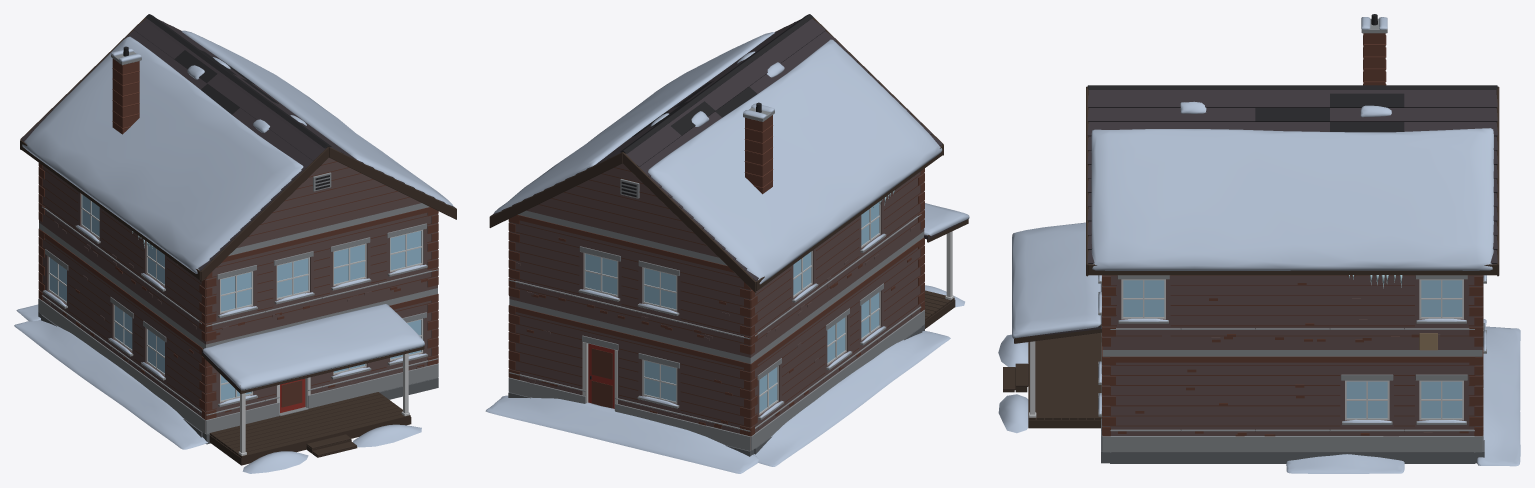
File: house_two_story_A.glb
3 renders of one model, left to right at view 1: azimuth 30°, elevation 25°; view 2: azimuth 150°, elevation 25°; view 3: azimuth 270°, elevation 25°, orthographic. The views are drawn at different scales.
Visible parts, largest first — view 1: Roof, Floor0, Walls1_S, Walls0_W, Walls1_W, Walls0_S, Walls1_S_Stub, Walls0_S_Stub, Walls1_W_Stub, Floor1, Window_10, Window_12 (+10 smaller); view 2: Roof, Walls1_N, Walls0_N, Floor0, Walls0_W, Walls1_W, Floor1, Walls0_N_Stub, Walls1_N_Stub, Walls1_W_Stub, Door_1, Window_3 (+8 smaller); view 3: Roof, Walls0_E, Walls1_E, Floor0, Walls1_E_Stub, Floor1, Walls0_E_Stub, Window_15, Window_16, Window_5, Window_4, Walls0_S (+3 smaller).
Boxes of the visible parts, x1,y1,x2,y2 form: Roof: (20,14,456,393); Floor0: (14,304,438,473); Walls1_S: (199,207,438,344); Walls0_W: (42,231,202,430); Walls1_W: (42,166,202,341); Walls0_S: (199,294,438,434); Walls1_S_Stub: (199,269,438,343); Walls0_S_Stub: (201,358,438,431); Walls1_W_Stub: (42,206,202,341); Floor1: (39,223,437,348); Window_10: (277,258,308,297); Window_12: (390,231,421,270); Roof: (489,14,969,292); Walls1_N: (508,214,757,357); Walls0_N: (508,305,757,450); Floor0: (485,231,964,473); Walls0_W: (754,240,921,447); Walls1_W: (754,171,920,354); Floor1: (509,231,924,363); Walls0_N_Stub: (509,372,754,450); Walls1_N_Stub: (509,279,757,356); Walls1_W_Stub: (754,214,921,353); Door_1: (588,343,614,408); Window_3: (644,360,676,401); Roof: (1012,14,1499,343); Walls0_E: (1110,356,1475,452); Walls1_E: (1110,275,1475,349); Floor0: (998,319,1520,473); Walls1_E_Stub: (1110,328,1475,349); Floor1: (1102,350,1482,356); Walls0_E_Stub: (1110,429,1474,436); Window_15: (1123,280,1164,316); Window_16: (1421,280,1462,316); Window_5: (1421,381,1462,418); Window_4: (1346,381,1387,418); Walls0_S: (1098,333,1115,452).
Size of what is drawn, in the model's own units: 9.89 by 10.1 by 14.02.
